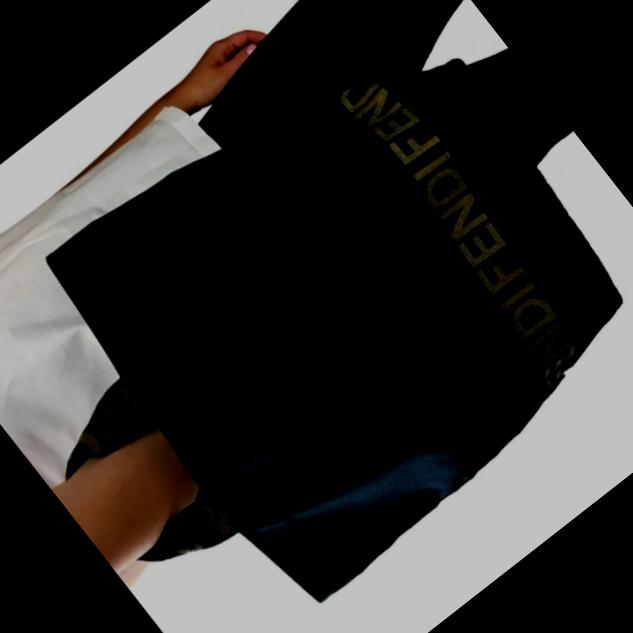FENDI: (402, 148, 534, 296), (331, 58, 440, 174), (486, 279, 588, 389)
